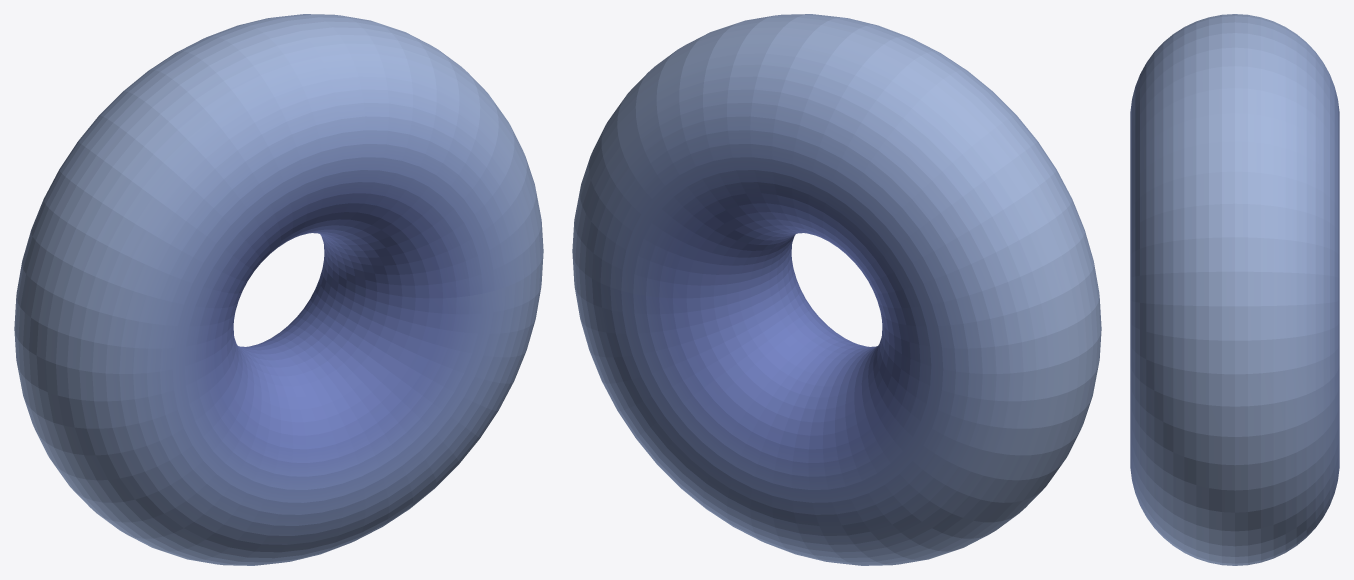
The picture shows the model from 3 angles, left to right: view 1: azimuth 30°, elevation 25°; view 2: azimuth 150°, elevation 25°; view 3: azimuth 270°, elevation 25°; orthographic projection. The views are drawn at different scales.
Visible parts, largest first — view 1: world; view 2: world; view 3: world.
Part boxes in pixels (<box>): world: <box>14,14,543,565</box>; world: <box>572,14,1101,565</box>; world: <box>1130,14,1339,565</box>.
Size of the model in its own units: 17.2 by 17.17 by 6.52.
